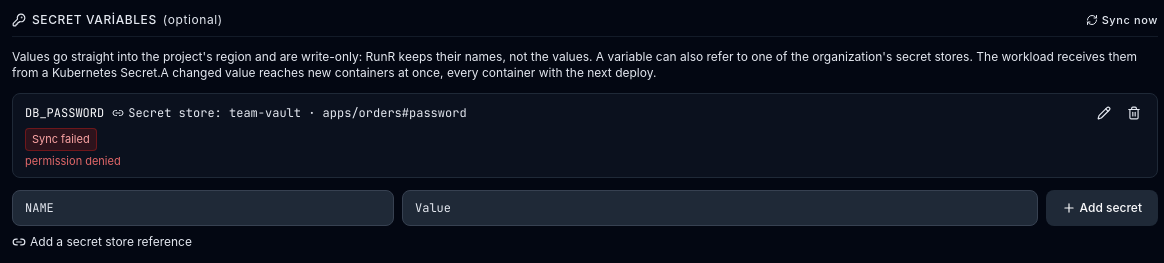
Test: SecretEnvVarsEditor — where values live (pass-through, secret stores) › syncs the references now and shows what the region reports
The image size is (1164, 263).
Step 1. Click the button with test id "secret-sync-now" → (1122, 20), box top-left (1086, 12), bottom-right (1158, 28)
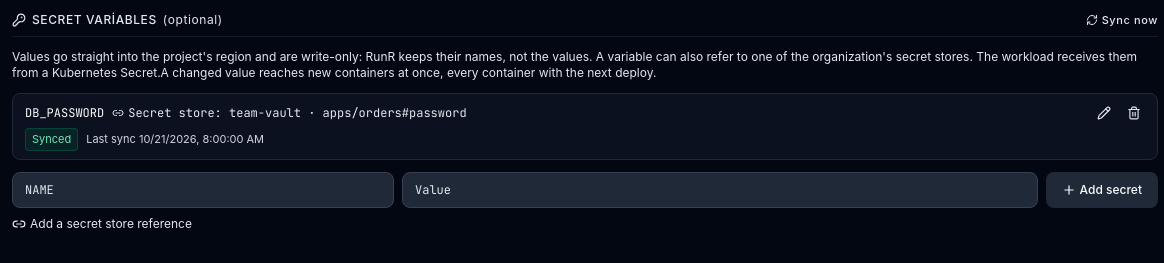
Check: the text with test id "secret-sync-DB_PASSWORD" reads "Synced", box top-left (32, 132), bottom-right (71, 146)
